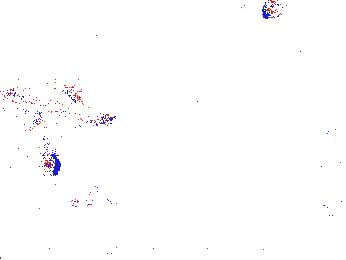X-ray fish: (41, 145, 63, 182), (258, 1, 286, 22)
red belly glassfish: (70, 189, 122, 211), (1, 105, 19, 120)
redtail glassfish: (28, 101, 119, 137), (1, 78, 86, 109)
